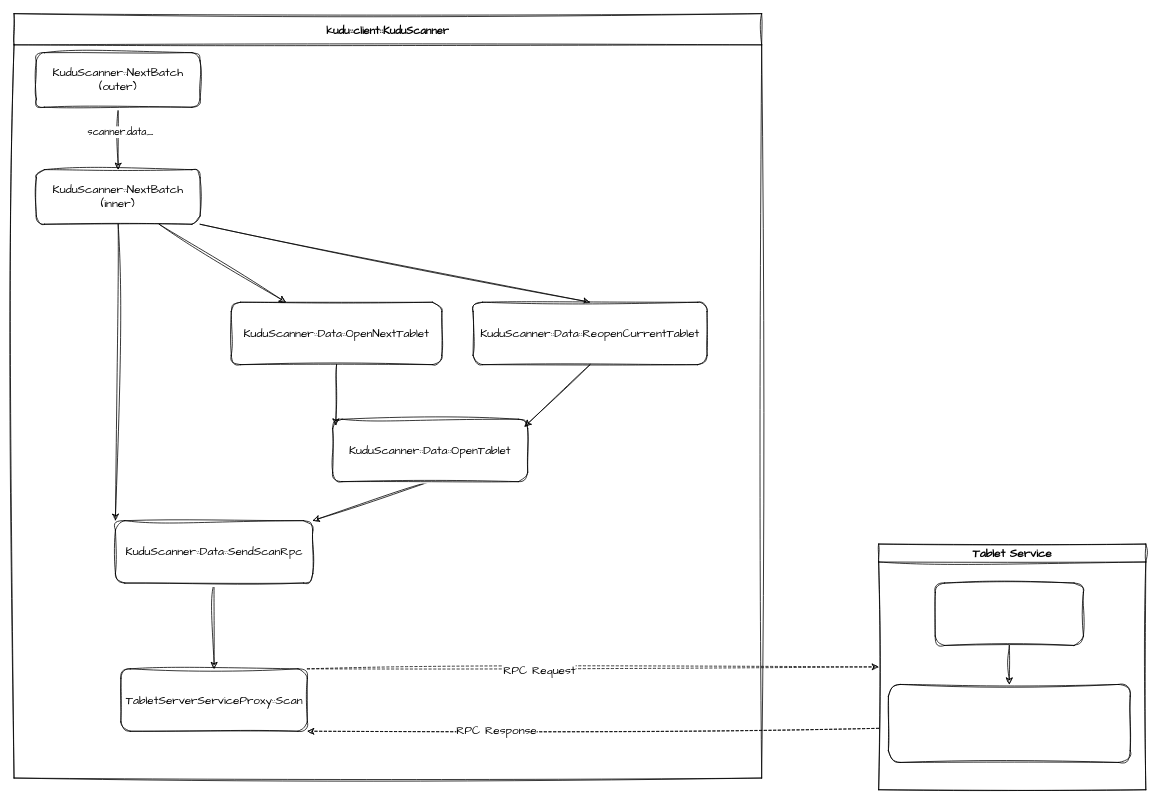
Some shapes in this 1159 by 803 pixel diagram are drawn without their labels. The shapes that lost their labels are listed below. From the top down, each one's centre as x and y in pixels, then its label:
At [1008,613]: "TabletServiceImpl::Scan".
At [1009,723]: "TabletServiceImpl::HandleNewScanRequest".
